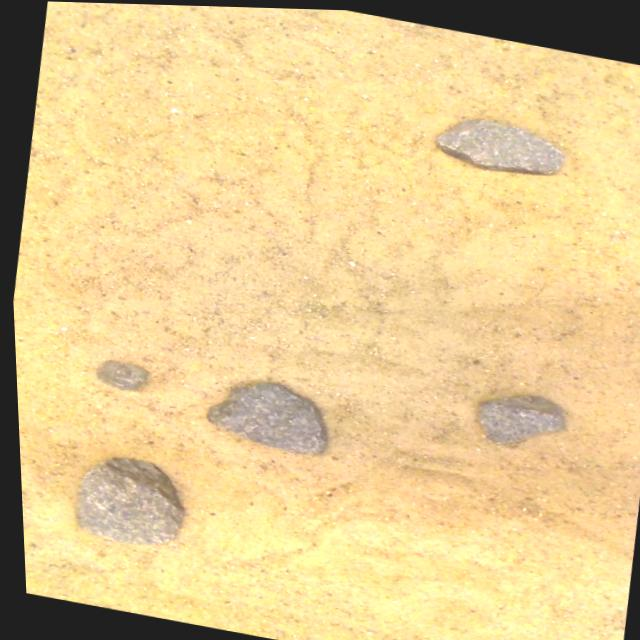rock: (71, 457, 177, 544), (201, 382, 320, 453), (434, 117, 560, 171), (474, 393, 559, 441), (92, 360, 142, 390)
